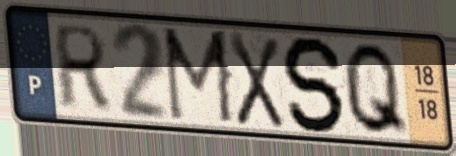2: (108, 20, 174, 124)
M: (159, 24, 239, 129)
Q: (341, 39, 412, 139)
R: (53, 22, 112, 112)
S: (279, 33, 348, 136)
X: (226, 28, 286, 133)
